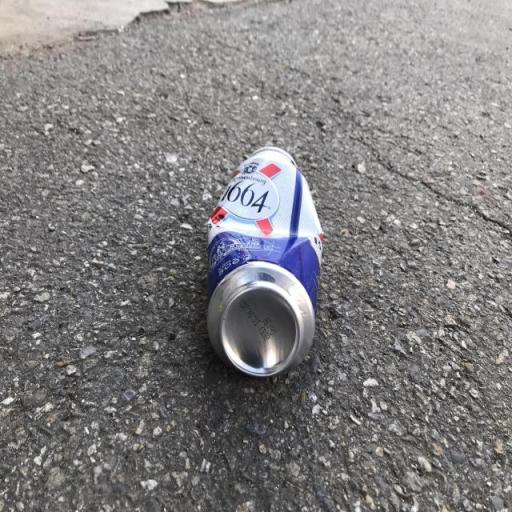metal: (190, 132, 343, 400)
